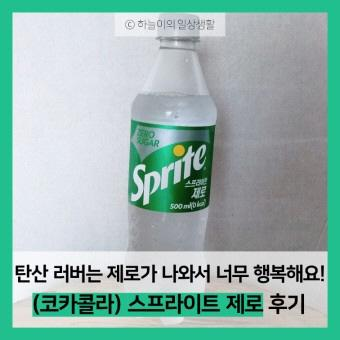sprite_zero: (126, 42, 215, 260)
